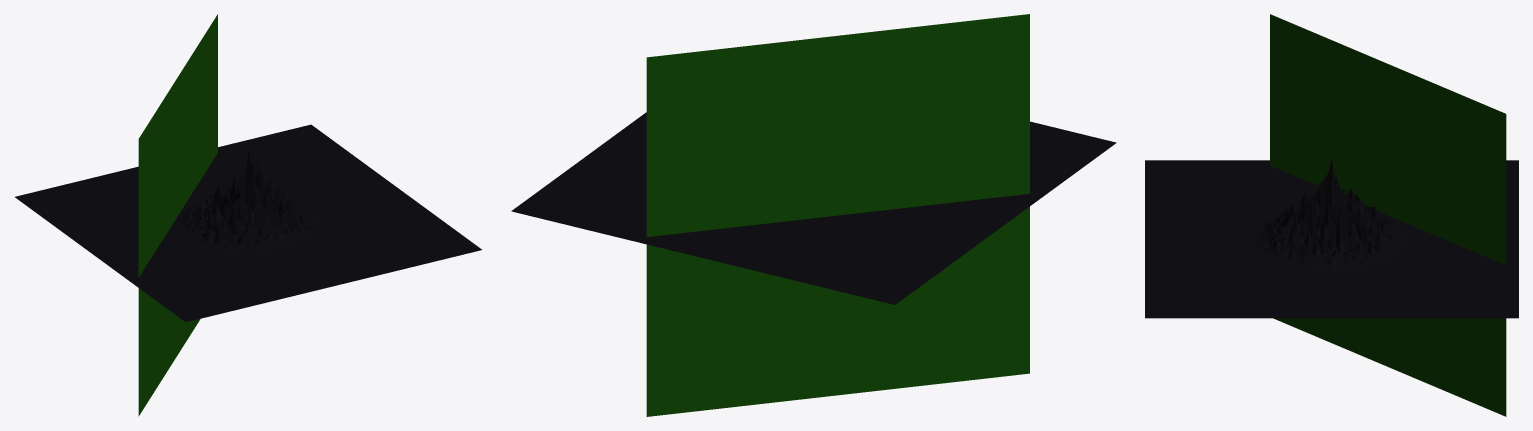
The model's file is Ice spike.obj.
3 views of the same model, side by side, from view 1: azimuth 30°, elevation 25°; view 2: azimuth 150°, elevation 25°; view 3: azimuth 270°, elevation 25° (orthographic). The views are drawn at different scales.
Visible parts, largest first — view 1: Plane, Plane.001; view 2: Plane.001, Plane; view 3: Plane.001, Plane.
Part boxes in pixels (x1,y1,x2,y2): Plane: (15,124,481,322); Plane.001: (138,14,217,416); Plane.001: (646,14,1029,416); Plane: (511,112,1116,304); Plane.001: (1270,14,1506,416); Plane: (1145,158,1518,318).
Size of the model in its own units: 69.01 by 61.73 by 69.01.
